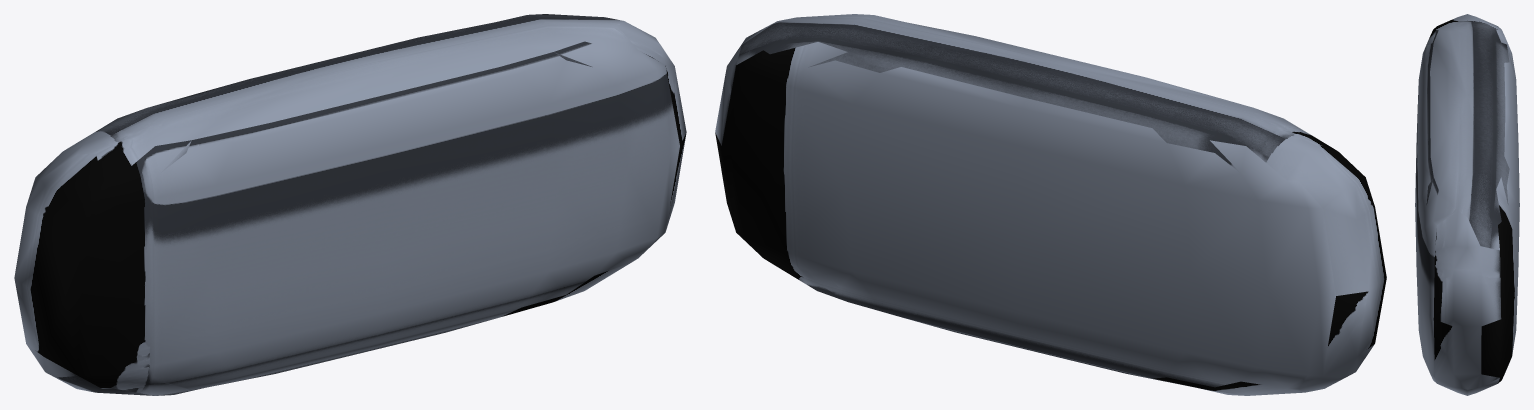
File: Estela_PiernaDer_Acero.fbx
The picture shows the model from 3 angles, left to right: view 1: azimuth 30°, elevation 25°; view 2: azimuth 150°, elevation 25°; view 3: azimuth 270°, elevation 25°; orthographic projection. The views are drawn at different scales.
Parts seen in each view (by area): view 1: Estela_PiernaDer_Acero; view 2: Estela_PiernaDer_Acero; view 3: Estela_PiernaDer_Acero.
Boxes of the visible parts, <box> form: Estela_PiernaDer_Acero: <box>14,14,686,395</box>; Estela_PiernaDer_Acero: <box>715,14,1386,395</box>; Estela_PiernaDer_Acero: <box>1415,14,1519,395</box>.
Bounding box in the file's own units: 0.784 × 0.3252 × 0.1429.
